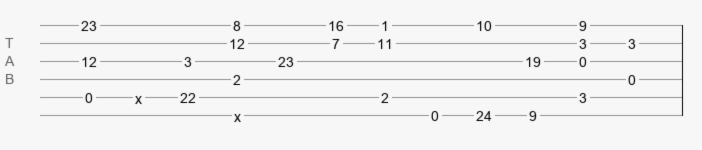0: (85, 90, 93, 100), (431, 108, 439, 118), (579, 54, 587, 64), (628, 72, 636, 82)
1: (381, 18, 389, 28)
10: (476, 18, 492, 28)
11: (377, 36, 393, 46)
12: (81, 54, 97, 64), (229, 36, 245, 46)
16: (328, 18, 344, 28)
19: (525, 54, 541, 64)
2: (233, 72, 241, 82), (381, 90, 389, 100)
22: (180, 90, 196, 100)
23: (81, 18, 97, 28), (278, 54, 294, 64)
24: (476, 108, 492, 118)
3: (184, 54, 192, 64), (579, 90, 587, 100), (579, 36, 587, 46), (628, 36, 636, 46)
7: (332, 36, 340, 46)
8: (233, 18, 241, 28)
9: (529, 108, 537, 118), (579, 18, 587, 28)
x: (135, 91, 142, 99), (234, 109, 241, 117)
